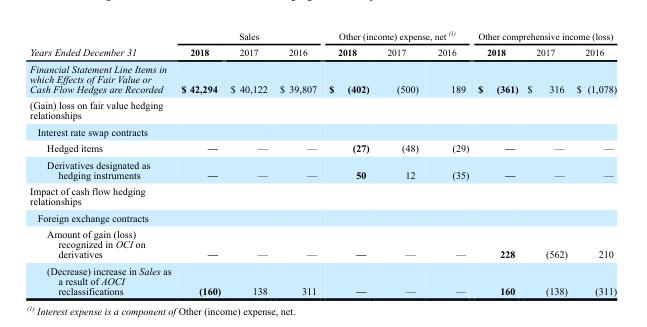table: (29, 29, 616, 296)
table column: (29, 29, 175, 296), (322, 29, 377, 296), (272, 29, 322, 296), (377, 29, 427, 296), (472, 29, 522, 296), (175, 29, 224, 296), (522, 29, 571, 296), (224, 29, 272, 296), (427, 29, 472, 296), (571, 29, 616, 296)
table column header: (29, 29, 616, 60)
table projected row header: (29, 96, 616, 123), (29, 182, 616, 208), (29, 208, 616, 225), (29, 123, 616, 139)
table row: (29, 225, 616, 262), (29, 60, 616, 96), (29, 262, 616, 296), (29, 96, 616, 123), (29, 156, 616, 182), (29, 182, 616, 208), (29, 43, 616, 60), (29, 139, 616, 156), (29, 208, 616, 225), (29, 123, 616, 139), (29, 29, 616, 43)
table spanning cell: (29, 29, 175, 60), (322, 29, 472, 43), (175, 29, 322, 43), (472, 29, 616, 43)
